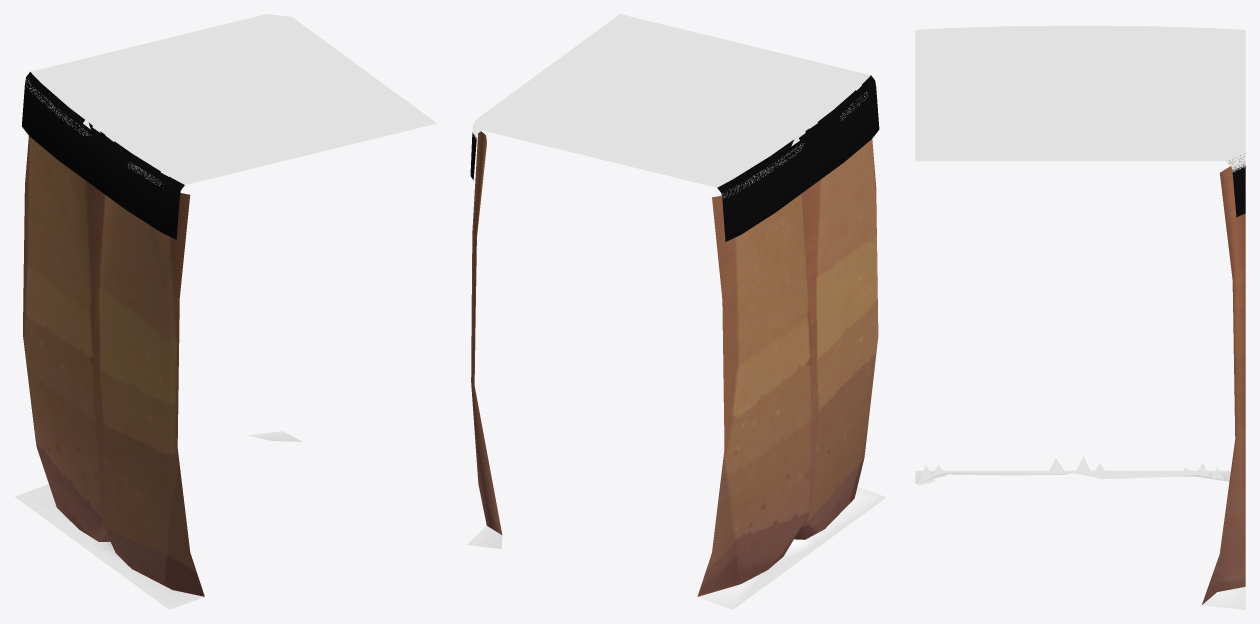
3 views of the same model, side by side, from view 1: azimuth 30°, elevation 25°; view 2: azimuth 150°, elevation 25°; view 3: azimuth 270°, elevation 25° (orthographic). The views are drawn at different scales.
Visible parts, largest first — view 1: CliffC__mCliff, GrassT1__mGrass, GrassOP_1__mGrassCliffXlu, GrassB_1__mGrass; view 2: CliffC__mCliff, GrassT1__mGrass, GrassOP_1__mGrassCliffXlu, GrassB_1__mGrass; view 3: GrassT1__mGrass, CliffC__mCliff, GrassB_1__mGrass, PGrassBA__mProcGrass, GrassOP_1__mGrassCliffXlu.
Boxes of the visible parts, x1,y1,x2,y2 form: CliffC__mCliff: [23, 136, 204, 596]; GrassT1__mGrass: [26, 14, 437, 185]; GrassOP_1__mGrassCliffXlu: [22, 72, 184, 239]; GrassB_1__mGrass: [15, 431, 302, 609]; CliffC__mCliff: [471, 131, 878, 596]; GrassT1__mGrass: [472, 14, 870, 197]; GrassOP_1__mGrassCliffXlu: [470, 75, 879, 241]; GrassB_1__mGrass: [466, 486, 886, 609]; GrassT1__mGrass: [915, 25, 1245, 171]; CliffC__mCliff: [1202, 166, 1245, 604]; GrassB_1__mGrass: [915, 470, 1245, 609]; PGrassBA__mProcGrass: [918, 456, 1223, 485]; GrassOP_1__mGrassCliffXlu: [1228, 153, 1245, 217].
Size of the model in its own units: 10 by 15.39 by 10.
4 materials, 1 textured.
